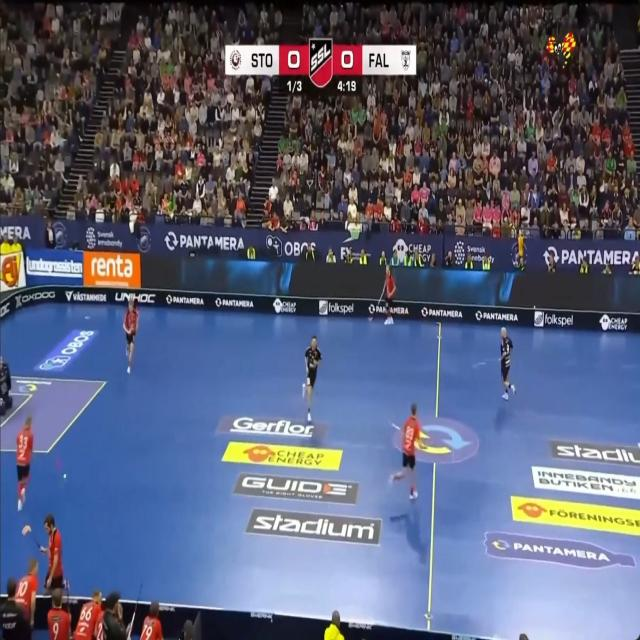Balls: (62, 473, 66, 479)
player: (390, 404, 420, 498), (40, 514, 64, 590), (303, 336, 321, 422), (17, 416, 33, 510), (16, 559, 38, 627), (73, 591, 102, 639), (47, 588, 70, 639), (123, 300, 138, 372), (501, 328, 515, 399), (140, 602, 163, 639), (384, 265, 395, 323)
stick: (127, 581, 142, 639), (375, 282, 386, 309), (368, 314, 373, 319)
